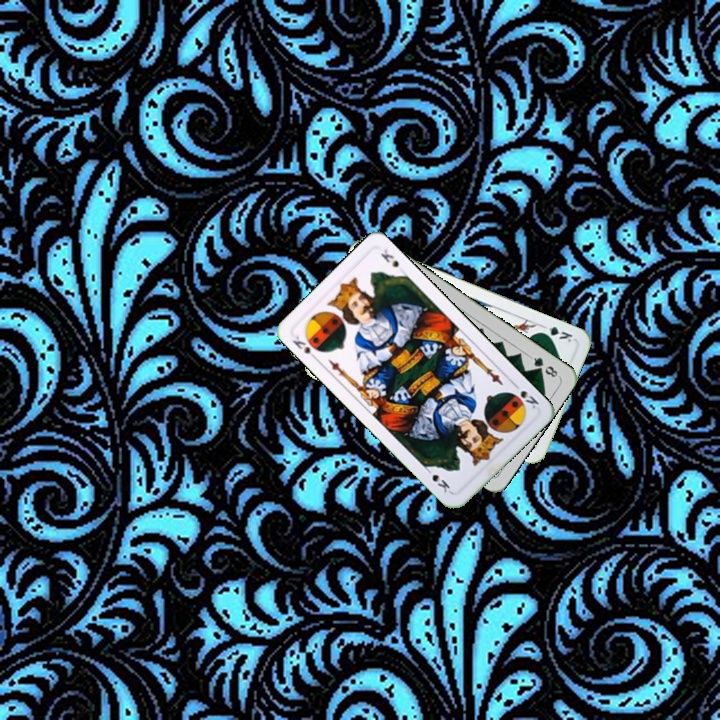G8: (526, 352, 562, 380)
GK: (535, 321, 575, 345)
SK: (509, 379, 542, 411), (288, 332, 321, 363)
